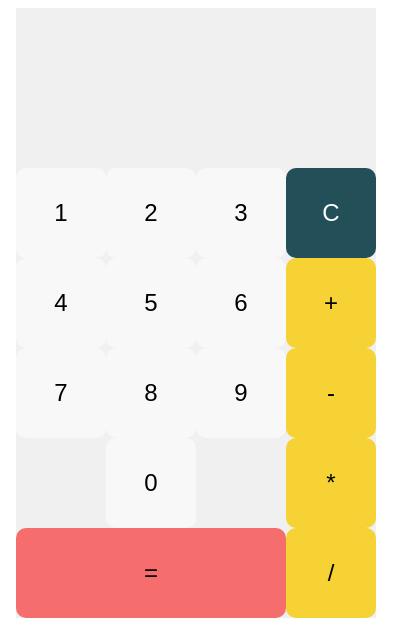
Scenario: Navigation component testing › Clear Buttons › removes calculation when pressed
This screenshot has width=393, height=635.
Click the button with class "number-button" showing "6".
click(241, 303)  # box [196, 258, 286, 348]
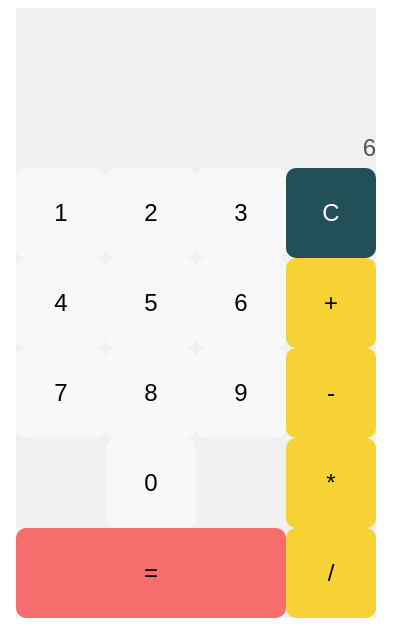
Check: the text with class "calculation" reads "6", box [363, 134, 376, 161]
Click the button with class "clear-button".
click(331, 213)  # box [286, 168, 376, 258]
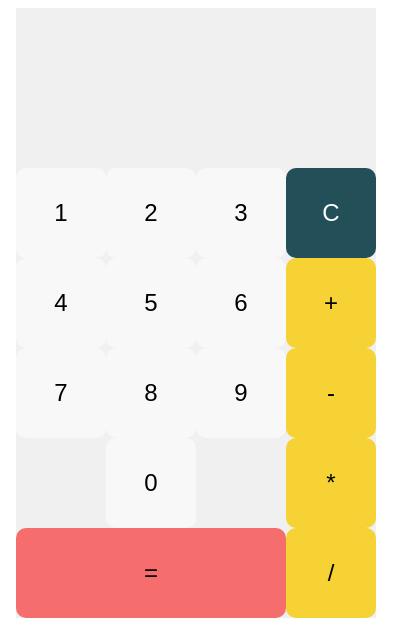
Check: the element with class "calculation" is empty, box [16, 128, 376, 168]
